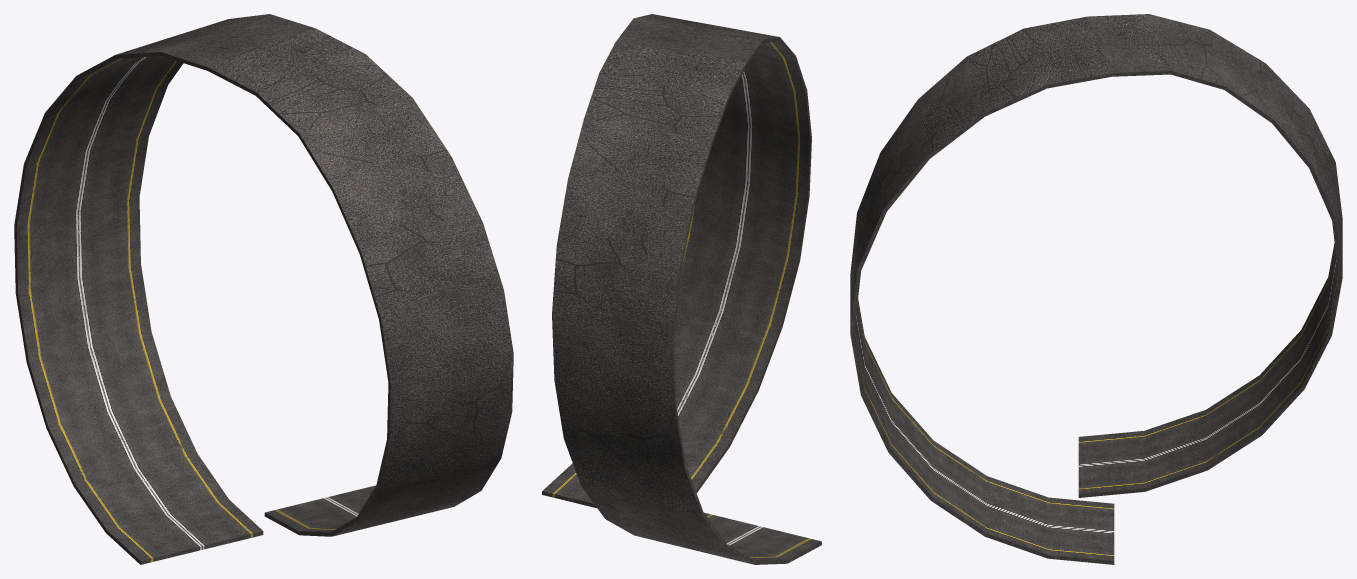
Rendered from Road_06.fbx.
3 views of the same model, side by side, from view 1: azimuth 30°, elevation 25°; view 2: azimuth 150°, elevation 25°; view 3: azimuth 270°, elevation 25° (orthographic). The views are drawn at different scales.
Visible parts, largest first — view 1: Road_06; view 2: Road_06; view 3: Road_06.
Part boxes in pixels (x1,y1,x2,y2): Road_06: [14, 14, 513, 564]; Road_06: [542, 14, 821, 564]; Road_06: [850, 14, 1342, 564].
Size of the model in its own units: 2162 by 3708 by 3617.
